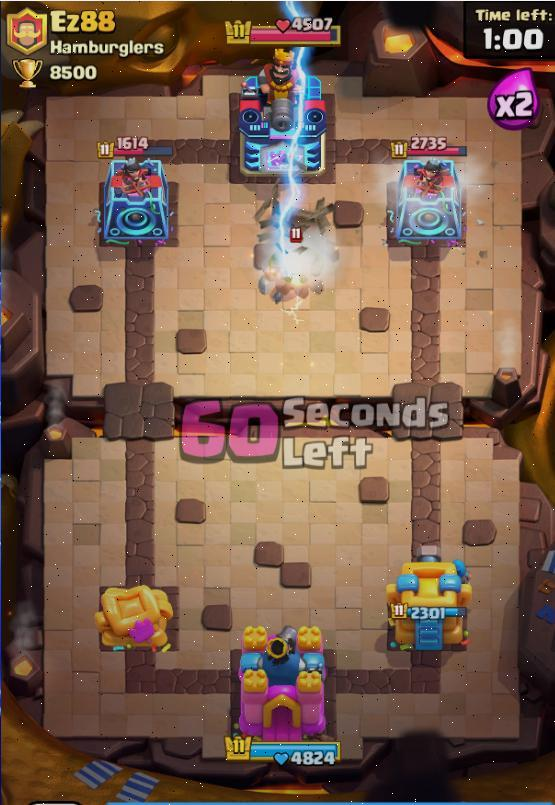EKingTower: (239, 64, 326, 177)
EnemyPrincessTower: (239, 626, 325, 741), (387, 147, 466, 245), (98, 151, 169, 244)
OCannoneerTower: (386, 546, 471, 651)
TowerDown: (98, 586, 178, 653)
